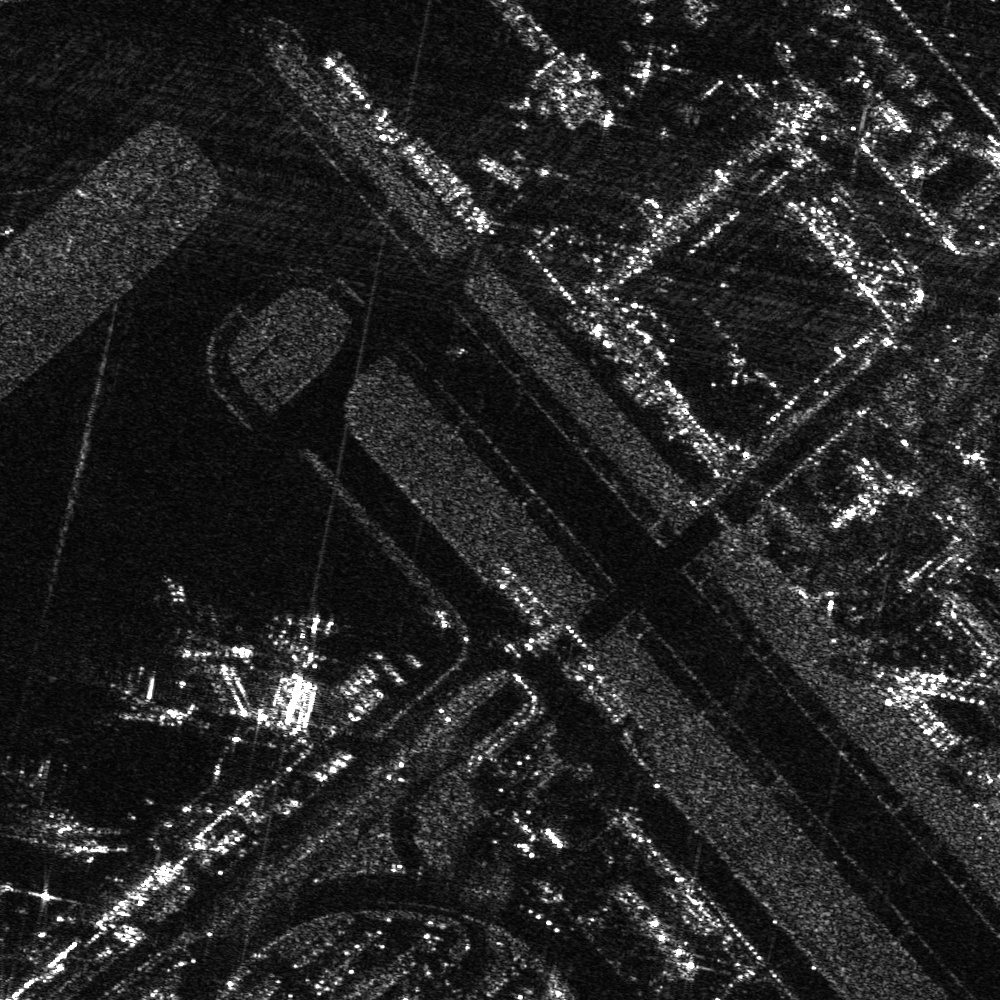Boeing737: (176, 601, 257, 670), (108, 662, 161, 731), (1, 755, 54, 820)
Boeing787: (269, 603, 354, 672)
